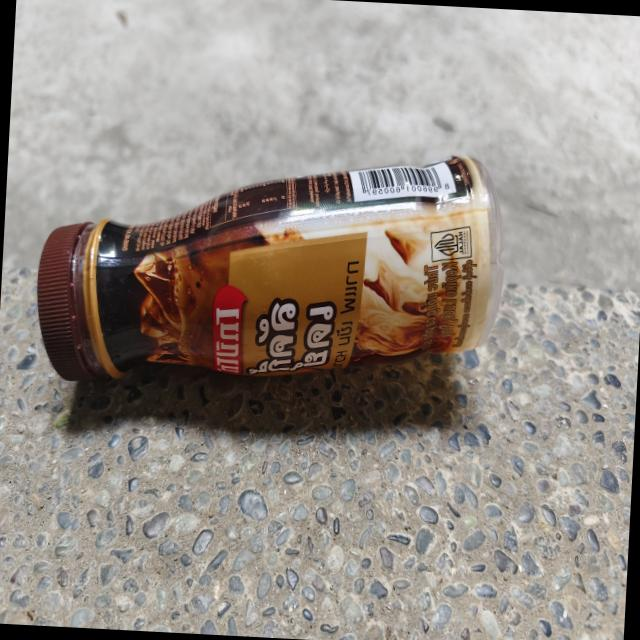Bottle: (38, 157, 503, 382)
